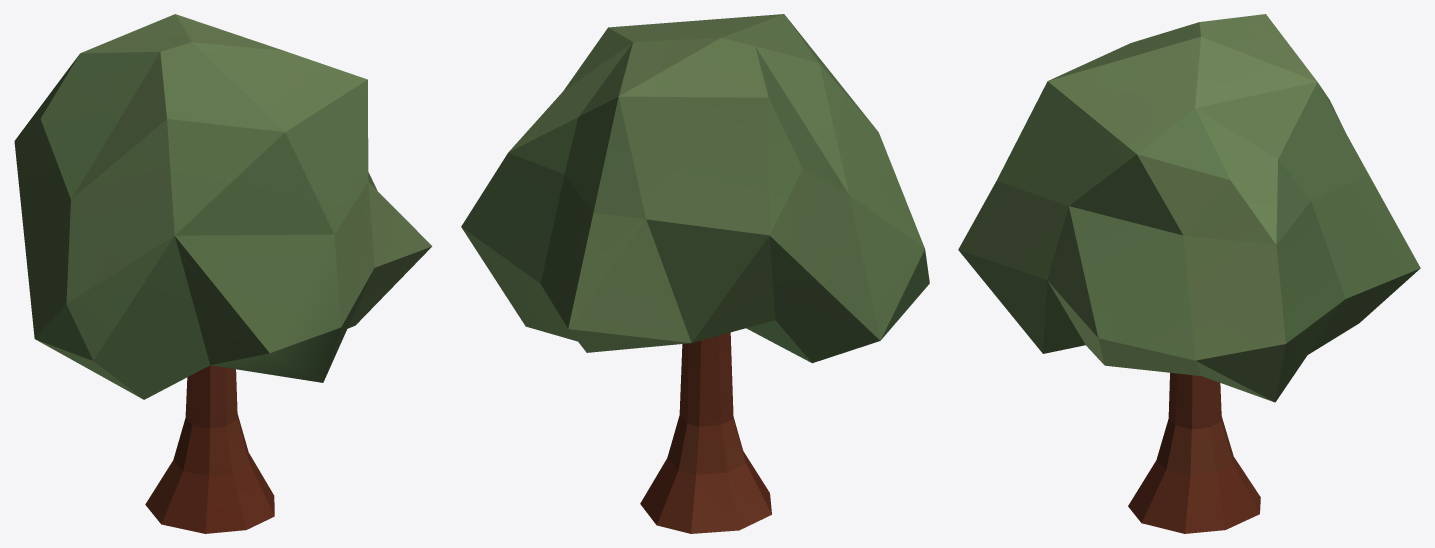
Rendered from Tree.fbx.
3 renders of one model, left to right at view 1: azimuth 30°, elevation 25°; view 2: azimuth 150°, elevation 25°; view 3: azimuth 270°, elevation 25°, orthographic. The views are drawn at different scales.
Parts seen in each view (by area): view 1: Tree; view 2: Tree; view 3: Tree.
Boxes of the visible parts, box(x1,y1,x2,y2) form: Tree: box(14, 14, 432, 533); Tree: box(461, 14, 929, 533); Tree: box(958, 14, 1420, 533).
Size of the model in its own units: 3093 by 3665 by 3330.
